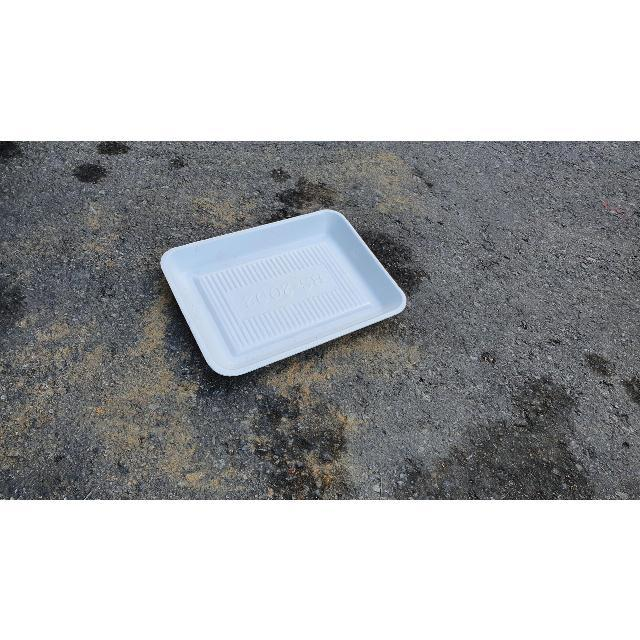Plastico descartable: (160, 210, 408, 379)
